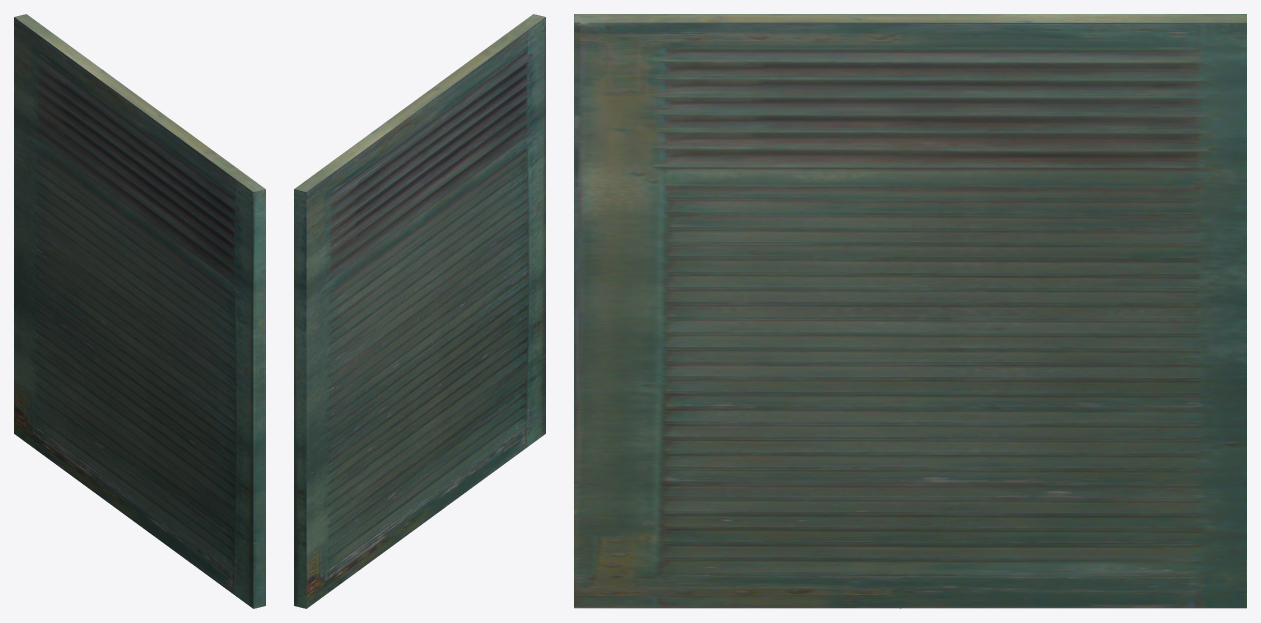
Rendered from SM_Shutter.gltf.
3 views of the same model, side by side, from view 1: azimuth 30°, elevation 25°; view 2: azimuth 150°, elevation 25°; view 3: azimuth 270°, elevation 25° (orthographic). The views are drawn at different scales.
Parts seen in each view (by area): view 1: node0; view 2: node0; view 3: node0.
Boxes of the visible parts, x1,y1,x2,y2 form: node0: (14, 14, 265, 608); node0: (294, 14, 545, 608); node0: (574, 14, 1246, 608).
Bounding box in the file's own units: 0.1208 × 3.86 × 4.01.
Materials: 2 (1 with a texture image).
